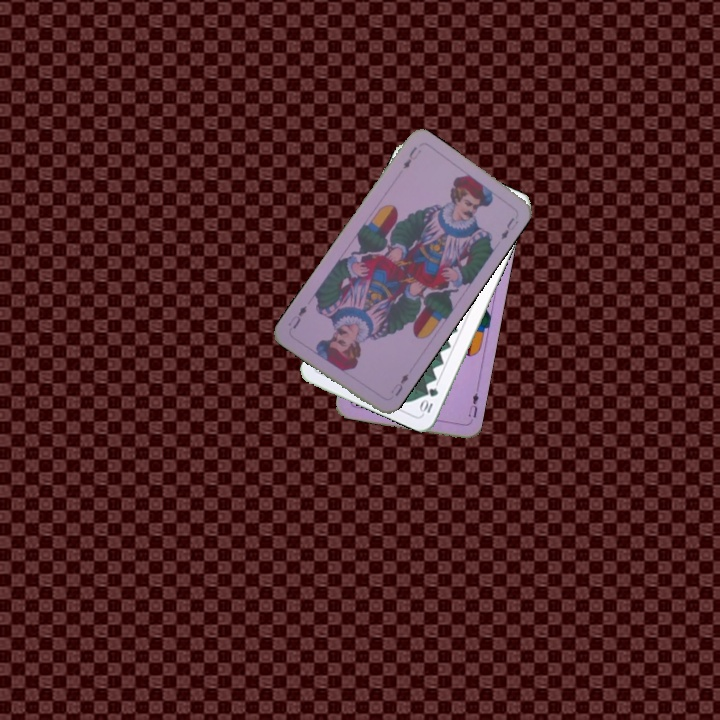EU: (399, 143, 424, 172), (387, 369, 411, 399), (464, 385, 481, 420)
G10: (416, 384, 441, 417)
